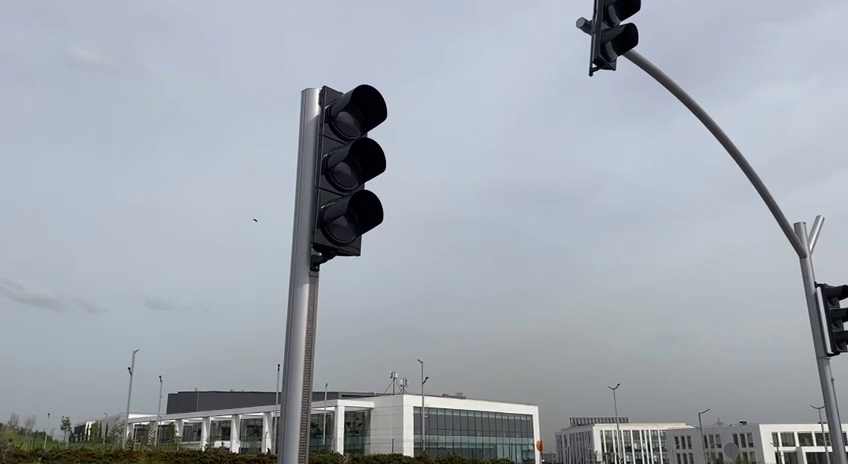trafficLight: (295, 80, 391, 268), (584, 1, 643, 80), (812, 279, 848, 357)
